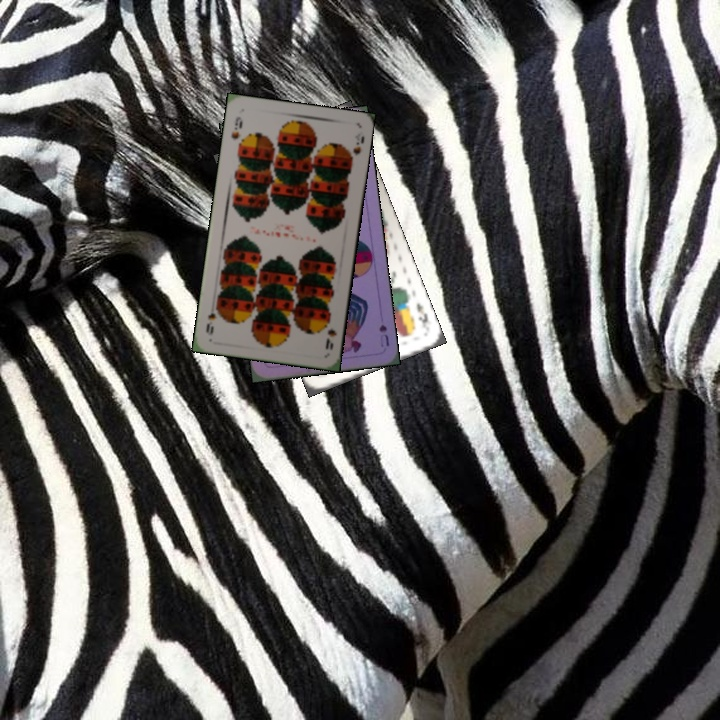EK: (412, 299, 431, 326)
S9: (320, 313, 339, 353), (227, 113, 245, 142)
SU: (375, 320, 392, 350)
